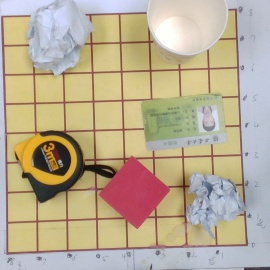card: (142, 92, 227, 149)
cup: (143, 1, 228, 63)
